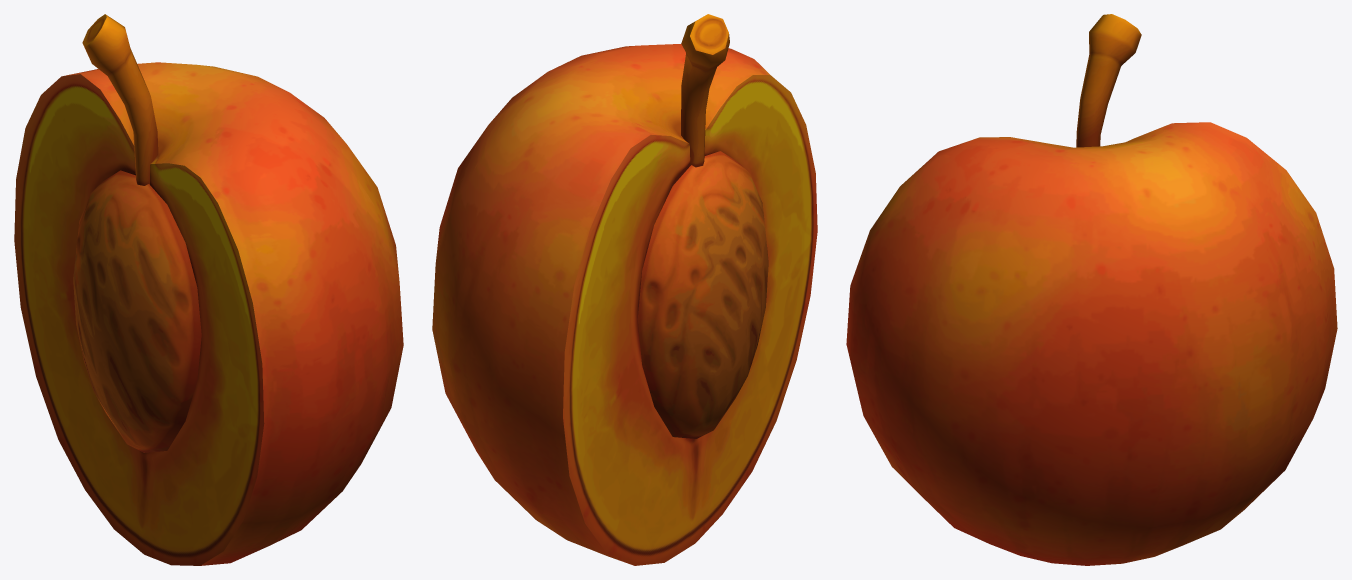
Rendered from SM_PeachCutB.fbx.
The picture shows the model from 3 angles, left to right: view 1: azimuth 30°, elevation 25°; view 2: azimuth 150°, elevation 25°; view 3: azimuth 270°, elevation 25°; orthographic projection. The views are drawn at different scales.
Visible parts, largest first — view 1: SM_PeachCutB; view 2: SM_PeachCutB; view 3: SM_PeachCutB.
Boxes of the visible parts, x1,y1,x2,y2 form: SM_PeachCutB: [14, 14, 403, 565]; SM_PeachCutB: [432, 14, 817, 565]; SM_PeachCutB: [846, 14, 1337, 565].
Bounding box in the file's own units: 8.21 × 15.22 × 13.2.
